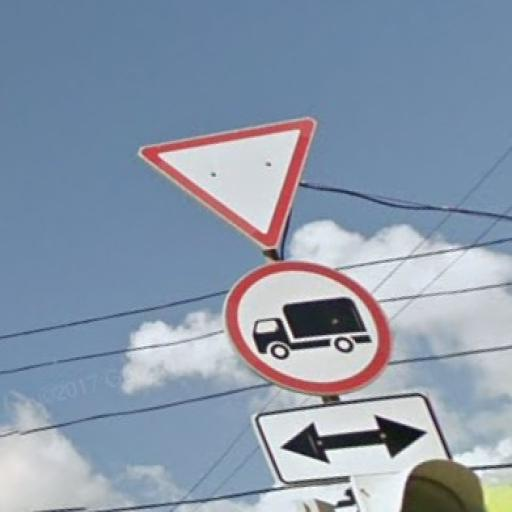traffic_sign: (140, 118, 318, 250), (224, 261, 391, 394)
